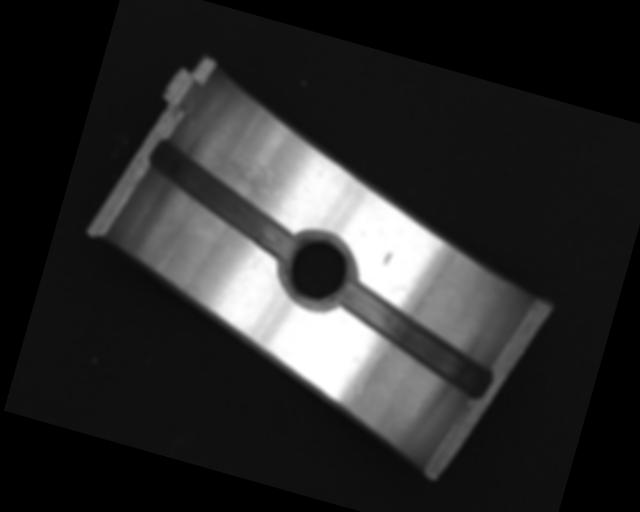bruise: (382, 249, 394, 267)
gap: (132, 137, 313, 263), (325, 281, 504, 398)
hole: (273, 227, 363, 315)
scratch: (200, 147, 300, 218)
